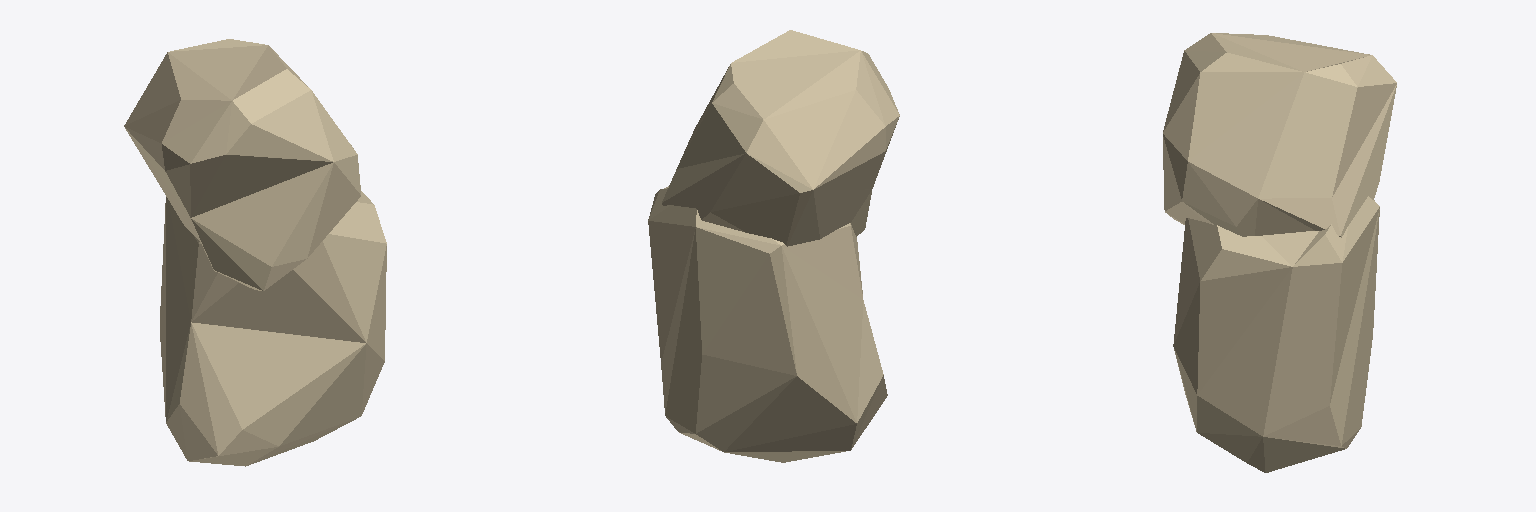
The picture shows the model from 3 angles: view 1: azimuth 30°, elevation 25°; view 2: azimuth 150°, elevation 25°; view 3: azimuth 270°, elevation 25°; orthographic projection.
Visible parts, largest first — view 1: 右前腕; view 2: 右前腕; view 3: 右前腕.
Boxes of the visible parts, x1=… form: 右前腕: x1=124, y1=39, x2=386, y2=466; 右前腕: x1=648, y1=30, x2=899, y2=462; 右前腕: x1=1163, y1=33, x2=1396, y2=472.
Bounding box in the file's own units: 0.6945 × 1.29 × 0.6654.
Materials: 1 (1 with a texture image).